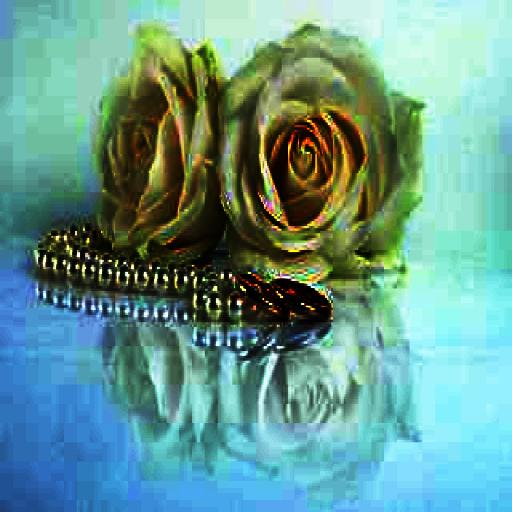rose: (214, 34, 428, 281), (100, 29, 222, 274)
